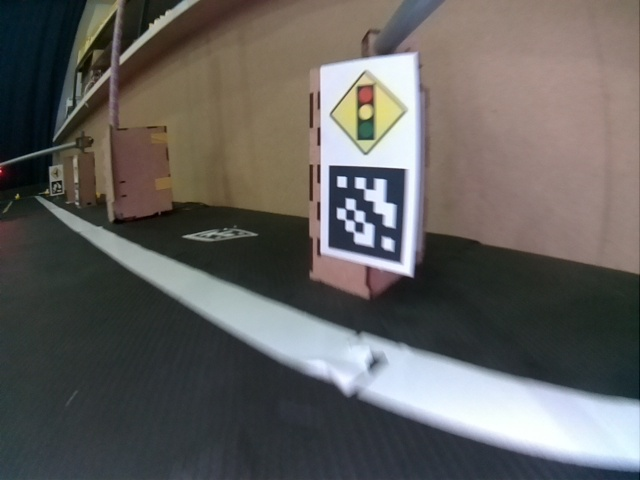Intersection sign: (51, 167, 60, 179)
QR code: (326, 164, 409, 265), (183, 228, 254, 241), (52, 183, 61, 194)
Signal sign: (329, 70, 408, 158)
